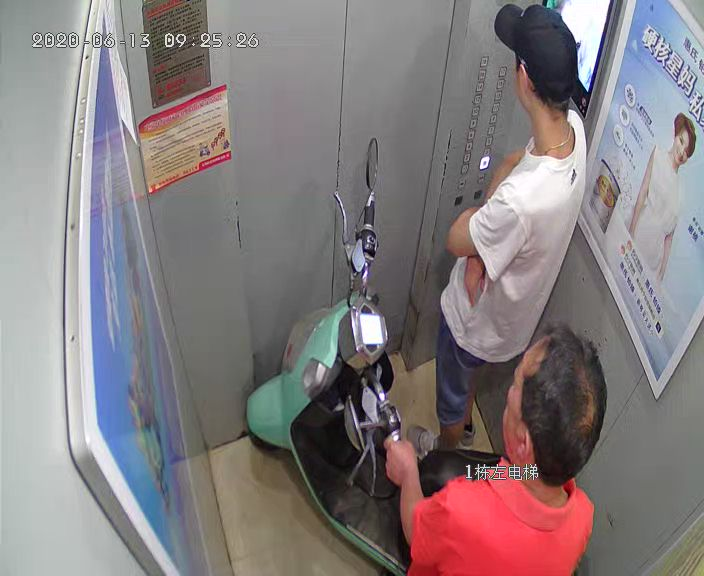Electric-bicycle: (242, 140, 413, 572)
